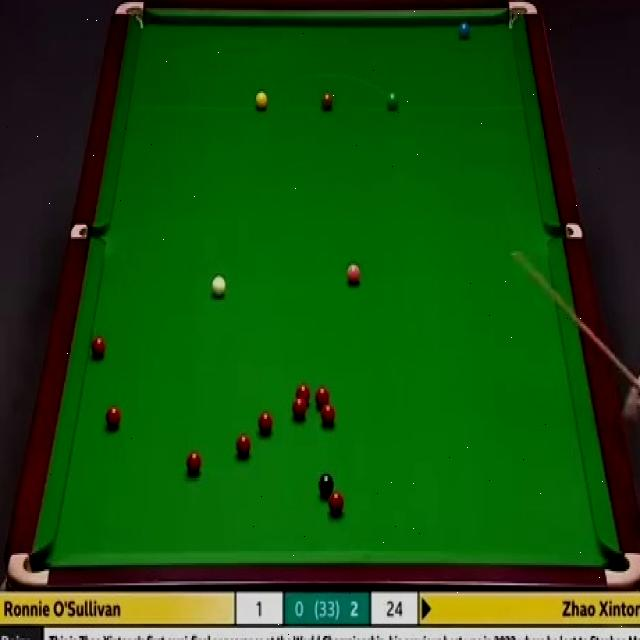black-ball: (318, 472, 333, 496)
blue-ball: (458, 20, 471, 42)
brown-ball: (322, 91, 334, 111)
green-ball: (385, 91, 400, 113)
pink-ball: (346, 261, 361, 289)
red-ball: (235, 433, 252, 459), (90, 335, 107, 360), (186, 449, 201, 477), (321, 402, 336, 430), (314, 384, 330, 409), (296, 383, 311, 409), (328, 491, 344, 514), (258, 410, 272, 435), (106, 405, 120, 429), (293, 398, 306, 418)
white-ball: (211, 275, 226, 298)
yellow-ball: (254, 91, 269, 111)
